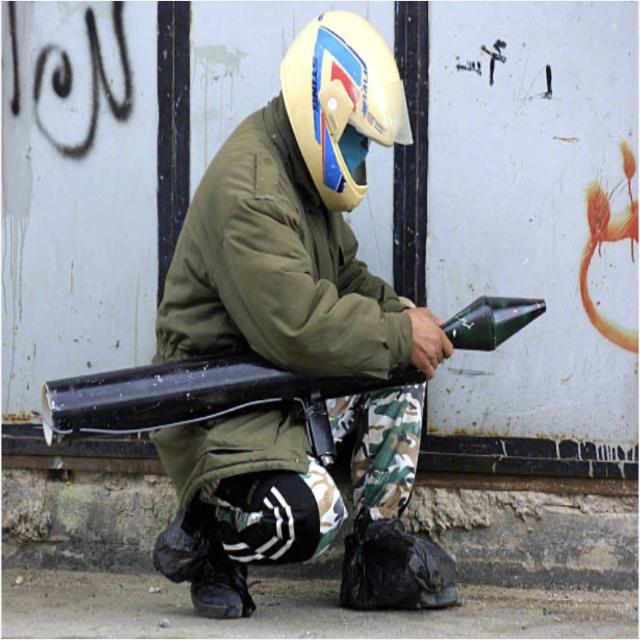bazooka: (26, 282, 567, 462)
